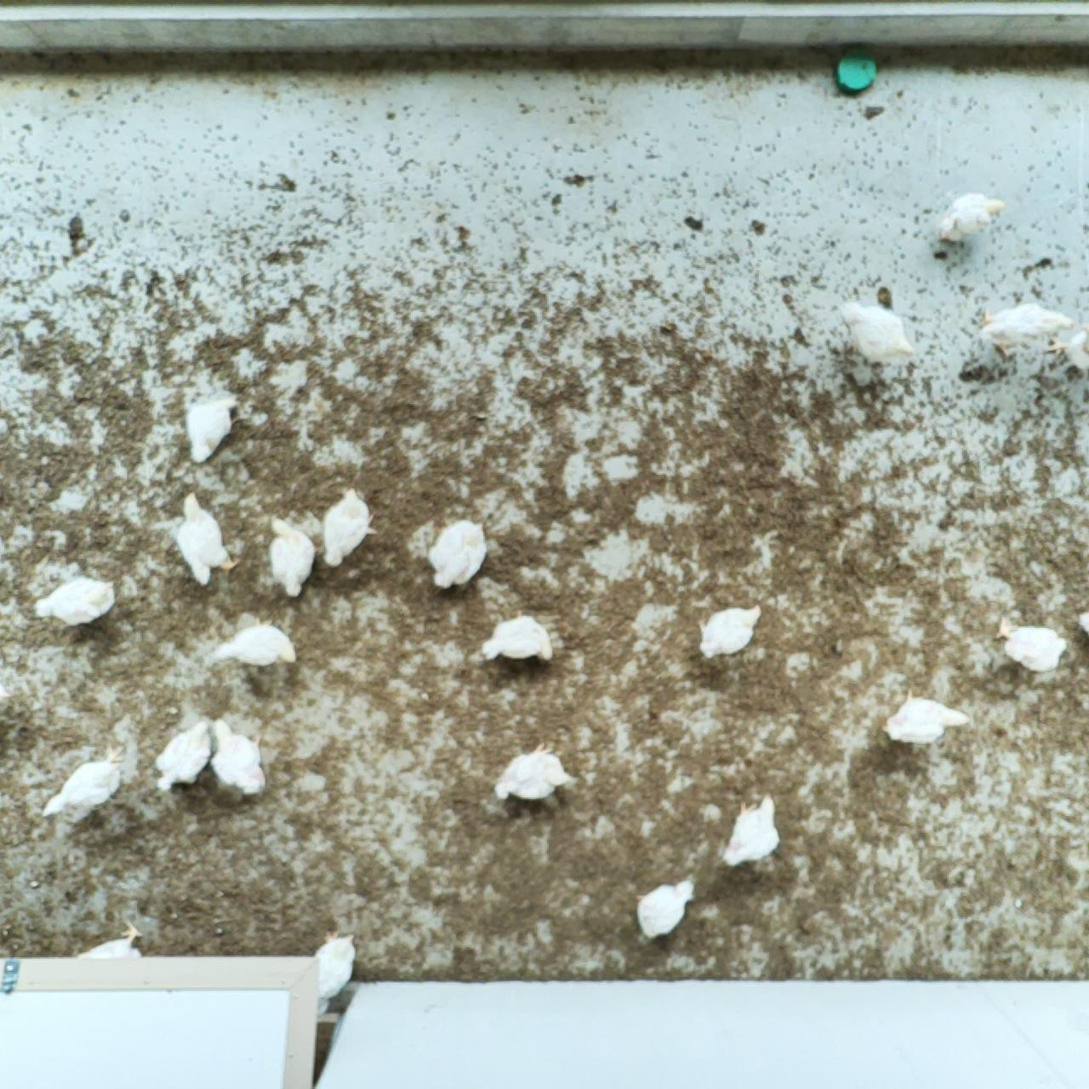chicken: (41, 743, 130, 820), (175, 489, 242, 588), (200, 611, 302, 671), (837, 296, 918, 367), (977, 303, 1078, 359), (879, 687, 971, 746), (491, 740, 574, 803), (720, 790, 785, 869), (304, 927, 360, 1016), (149, 717, 213, 794), (267, 511, 322, 600), (181, 392, 249, 463), (207, 718, 269, 795), (993, 614, 1069, 676), (478, 606, 555, 666), (427, 515, 489, 589), (33, 573, 119, 626), (324, 486, 380, 567), (634, 874, 698, 942), (935, 188, 1008, 245), (694, 602, 763, 660), (71, 919, 146, 960), (1041, 318, 1089, 373), (1074, 610, 1089, 640)
